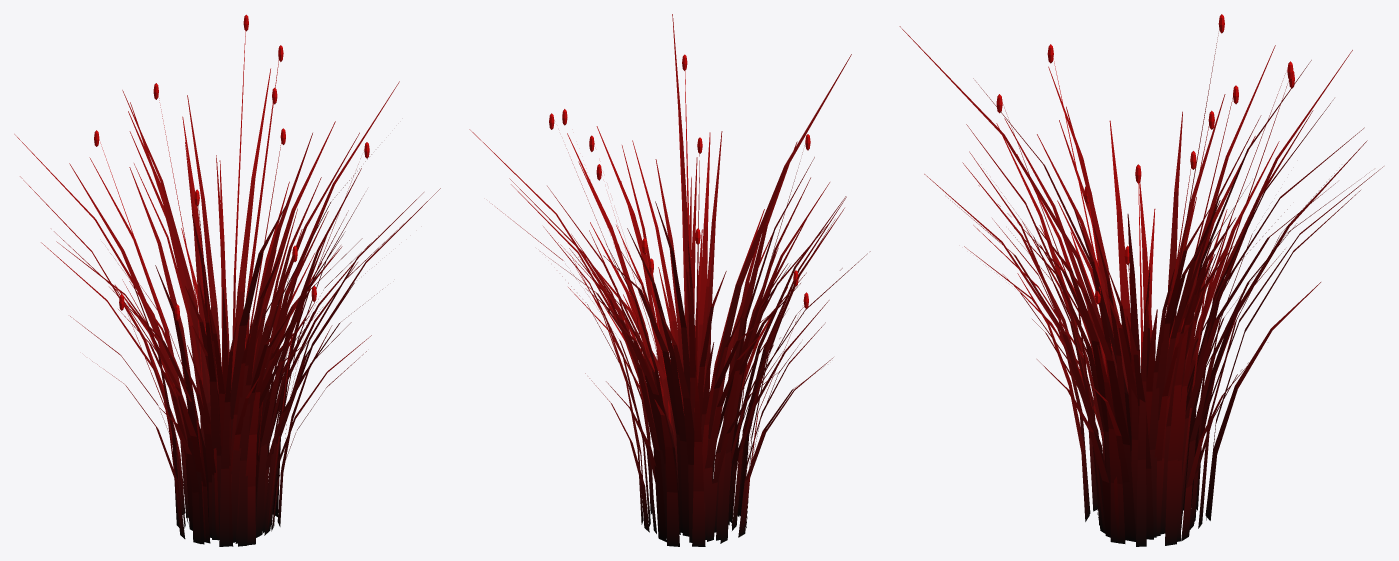
Rendered from prairie_bunchgrass_v3.fbx.
The picture shows the model from 3 angles, left to right: view 1: azimuth 30°, elevation 25°; view 2: azimuth 150°, elevation 25°; view 3: azimuth 270°, elevation 25°; orthographic projection. The views are drawn at different scales.
Visible parts, largest first — view 1: prairie_bunchgrass_v3; view 2: prairie_bunchgrass_v3; view 3: prairie_bunchgrass_v3.
Part boxes in pixels (x1,y1,x2,y2): prairie_bunchgrass_v3: (14, 14, 440, 546); prairie_bunchgrass_v3: (469, 14, 870, 546); prairie_bunchgrass_v3: (899, 14, 1383, 546).
Bounding box in the file's own units: 98.12 × 118 × 103.
